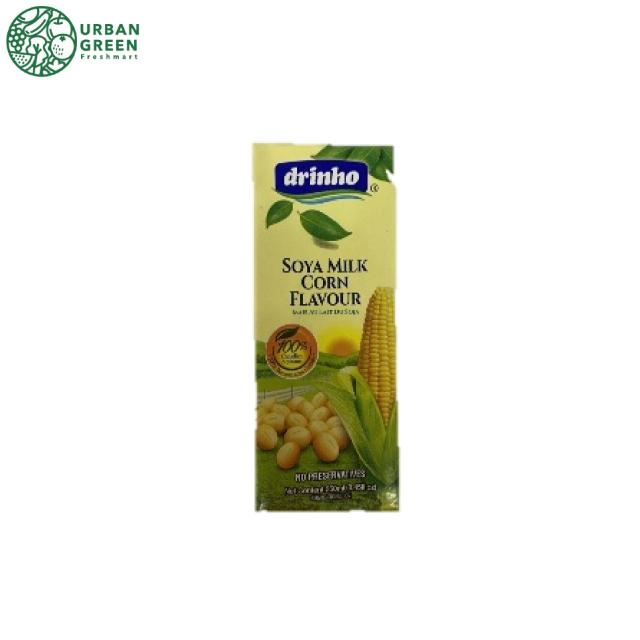drink carton: (254, 136, 404, 514)
